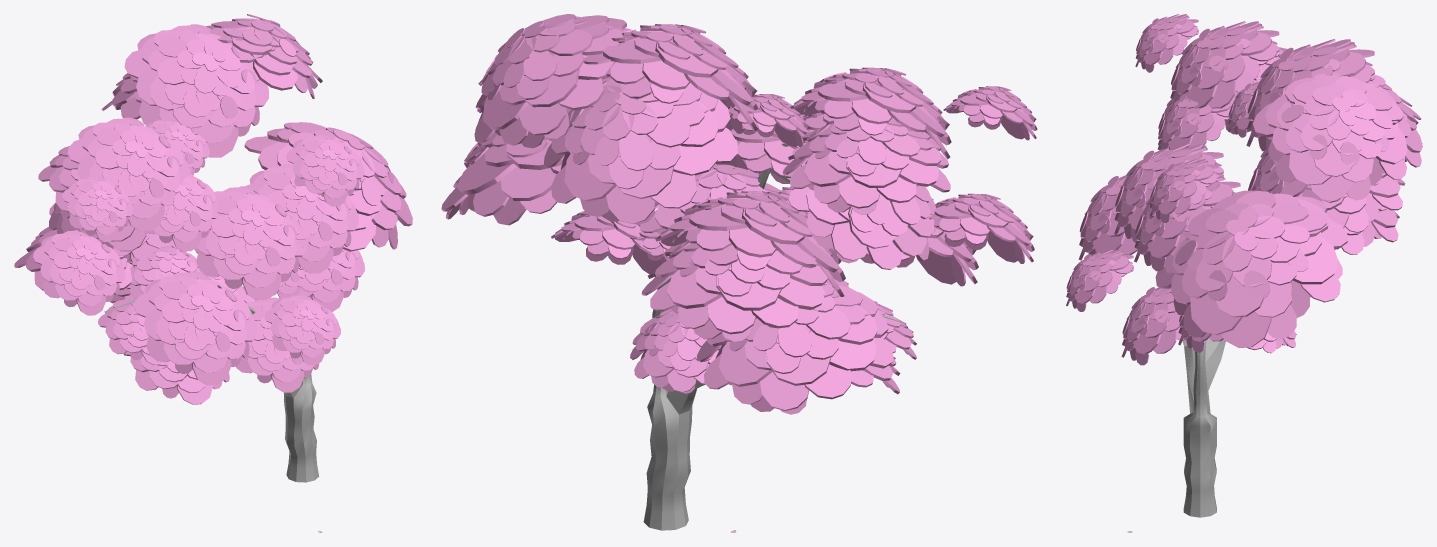
The model's file is sakura.glb.
3 views of the same model, side by side, from view 1: azimuth 30°, elevation 25°; view 2: azimuth 150°, elevation 25°; view 3: azimuth 270°, elevation 25° (orthographic). The views are drawn at different scales.
Visible parts, largest first — view 1: sakura_tree:sakura_tree:sakura_tree:pCube77, sakura_tree:pCube79, sakura_tree:pCube72, sakura_tree:pCube66, sakura_tree:sakura_tree:sakura_tree:pCube81, sakura_tree:pCube76, sakura_tree:pCube82, sakura_tree:sakura_tree:sakura_tree:pCube80, sakura_tree:pCube80, sakura_tree:pCube73, sakura_tree:pCube67, sakura_tree:pCube69 (+13 smaller); view 2: sakura_tree:sakura_tree:sakura_tree:pCube79, sakura_tree:sakura_tree:sakura_tree:pCube78, sakura_tree:sakura_tree:sakura_tree:pCube80, sakura_tree:pCube78, sakura_tree:pCube74, sakura_tree:pCube77, sakura_tree:sakura_tree:sakura_tree:pCube77, sakura_tree:pCube75, sakura_tree:pCube66, sakura_tree:sakura_tree:sakura_tree:pCube81, sakura_tree:sakura_tree:sakura_tree:than_cay2, sakura_tree:pCube76 (+9 smaller); view 3: sakura_tree:sakura_tree:sakura_tree:pCube81, sakura_tree:sakura_tree:sakura_tree:pCube80, sakura_tree:pCube66, sakura_tree:sakura_tree:sakura_tree:than_cay2, sakura_tree:sakura_tree:sakura_tree:pCube77, sakura_tree:pCube72, sakura_tree:pCube81, sakura_tree:pCube82, sakura_tree:pCube80, sakura_tree:pCube69, sakura_tree:pCube73, sakura_tree:pCube79 (+8 smaller).
Boxes of the visible parts, left/top/right/bottom form: sakura_tree:sakura_tree:sakura_tree:pCube77: left=124, top=24, right=268, bottom=157; sakura_tree:pCube79: left=134, top=271, right=257, bottom=385; sakura_tree:pCube72: left=196, top=186, right=307, bottom=300; sakura_tree:pCube66: left=67, top=117, right=190, bottom=231; sakura_tree:sakura_tree:sakura_tree:pCube81: left=244, top=122, right=412, bottom=251; sakura_tree:pCube76: left=33, top=230, right=125, bottom=315; sakura_tree:pCube82: left=245, top=163, right=358, bottom=273; sakura_tree:sakura_tree:sakura_tree:pCube80: left=206, top=14, right=322, bottom=98; sakura_tree:pCube80: left=286, top=134, right=364, bottom=206; sakura_tree:pCube73: left=264, top=295, right=340, bottom=365; sakura_tree:pCube67: left=62, top=176, right=133, bottom=241; sakura_tree:pCube69: left=143, top=174, right=217, bottom=251; sakura_tree:sakura_tree:sakura_tree:pCube79: left=544, top=77, right=737, bottom=224; sakura_tree:sakura_tree:sakura_tree:pCube78: left=696, top=282, right=892, bottom=414; sakura_tree:sakura_tree:sakura_tree:pCube80: left=474, top=14, right=631, bottom=148; sakura_tree:pCube78: left=641, top=241, right=833, bottom=341; sakura_tree:pCube74: left=783, top=117, right=950, bottom=214; sakura_tree:pCube77: left=655, top=191, right=845, bottom=296; sakura_tree:sakura_tree:sakura_tree:pCube77: left=583, top=24, right=757, bottom=133; sakura_tree:pCube75: left=782, top=147, right=936, bottom=269; sakura_tree:pCube66: left=790, top=67, right=951, bottom=159; sakura_tree:sakura_tree:sakura_tree:pCube81: left=441, top=132, right=564, bottom=225; sakura_tree:sakura_tree:sakura_tree:than_cay2: left=643, top=141, right=902, bottom=530; sakura_tree:pCube76: left=929, top=193, right=1034, bottom=263; sakura_tree:sakura_tree:sakura_tree:pCube81: left=1155, top=190, right=1348, bottom=347; sakura_tree:sakura_tree:sakura_tree:pCube80: left=1253, top=72, right=1411, bottom=201; sakura_tree:pCube66: left=1170, top=21, right=1279, bottom=108; sakura_tree:sakura_tree:sakura_tree:than_cay2: left=1182, top=152, right=1225, bottom=517; sakura_tree:sakura_tree:sakura_tree:pCube77: left=1246, top=39, right=1374, bottom=152; sakura_tree:pCube72: left=1114, top=143, right=1223, bottom=242; sakura_tree:pCube81: left=1121, top=287, right=1185, bottom=365; sakura_tree:pCube82: left=1134, top=173, right=1240, bottom=271; sakura_tree:pCube80: left=1149, top=159, right=1218, bottom=222; sakura_tree:pCube69: left=1158, top=94, right=1233, bottom=150; sakura_tree:pCube73: left=1066, top=249, right=1133, bottom=311; sakura_tree:pCube79: left=1078, top=175, right=1137, bottom=260.
Size of what is drawn, in the model's own units: 124 by 135 by 94.02.
Materials: 3 (1 with a texture image).
